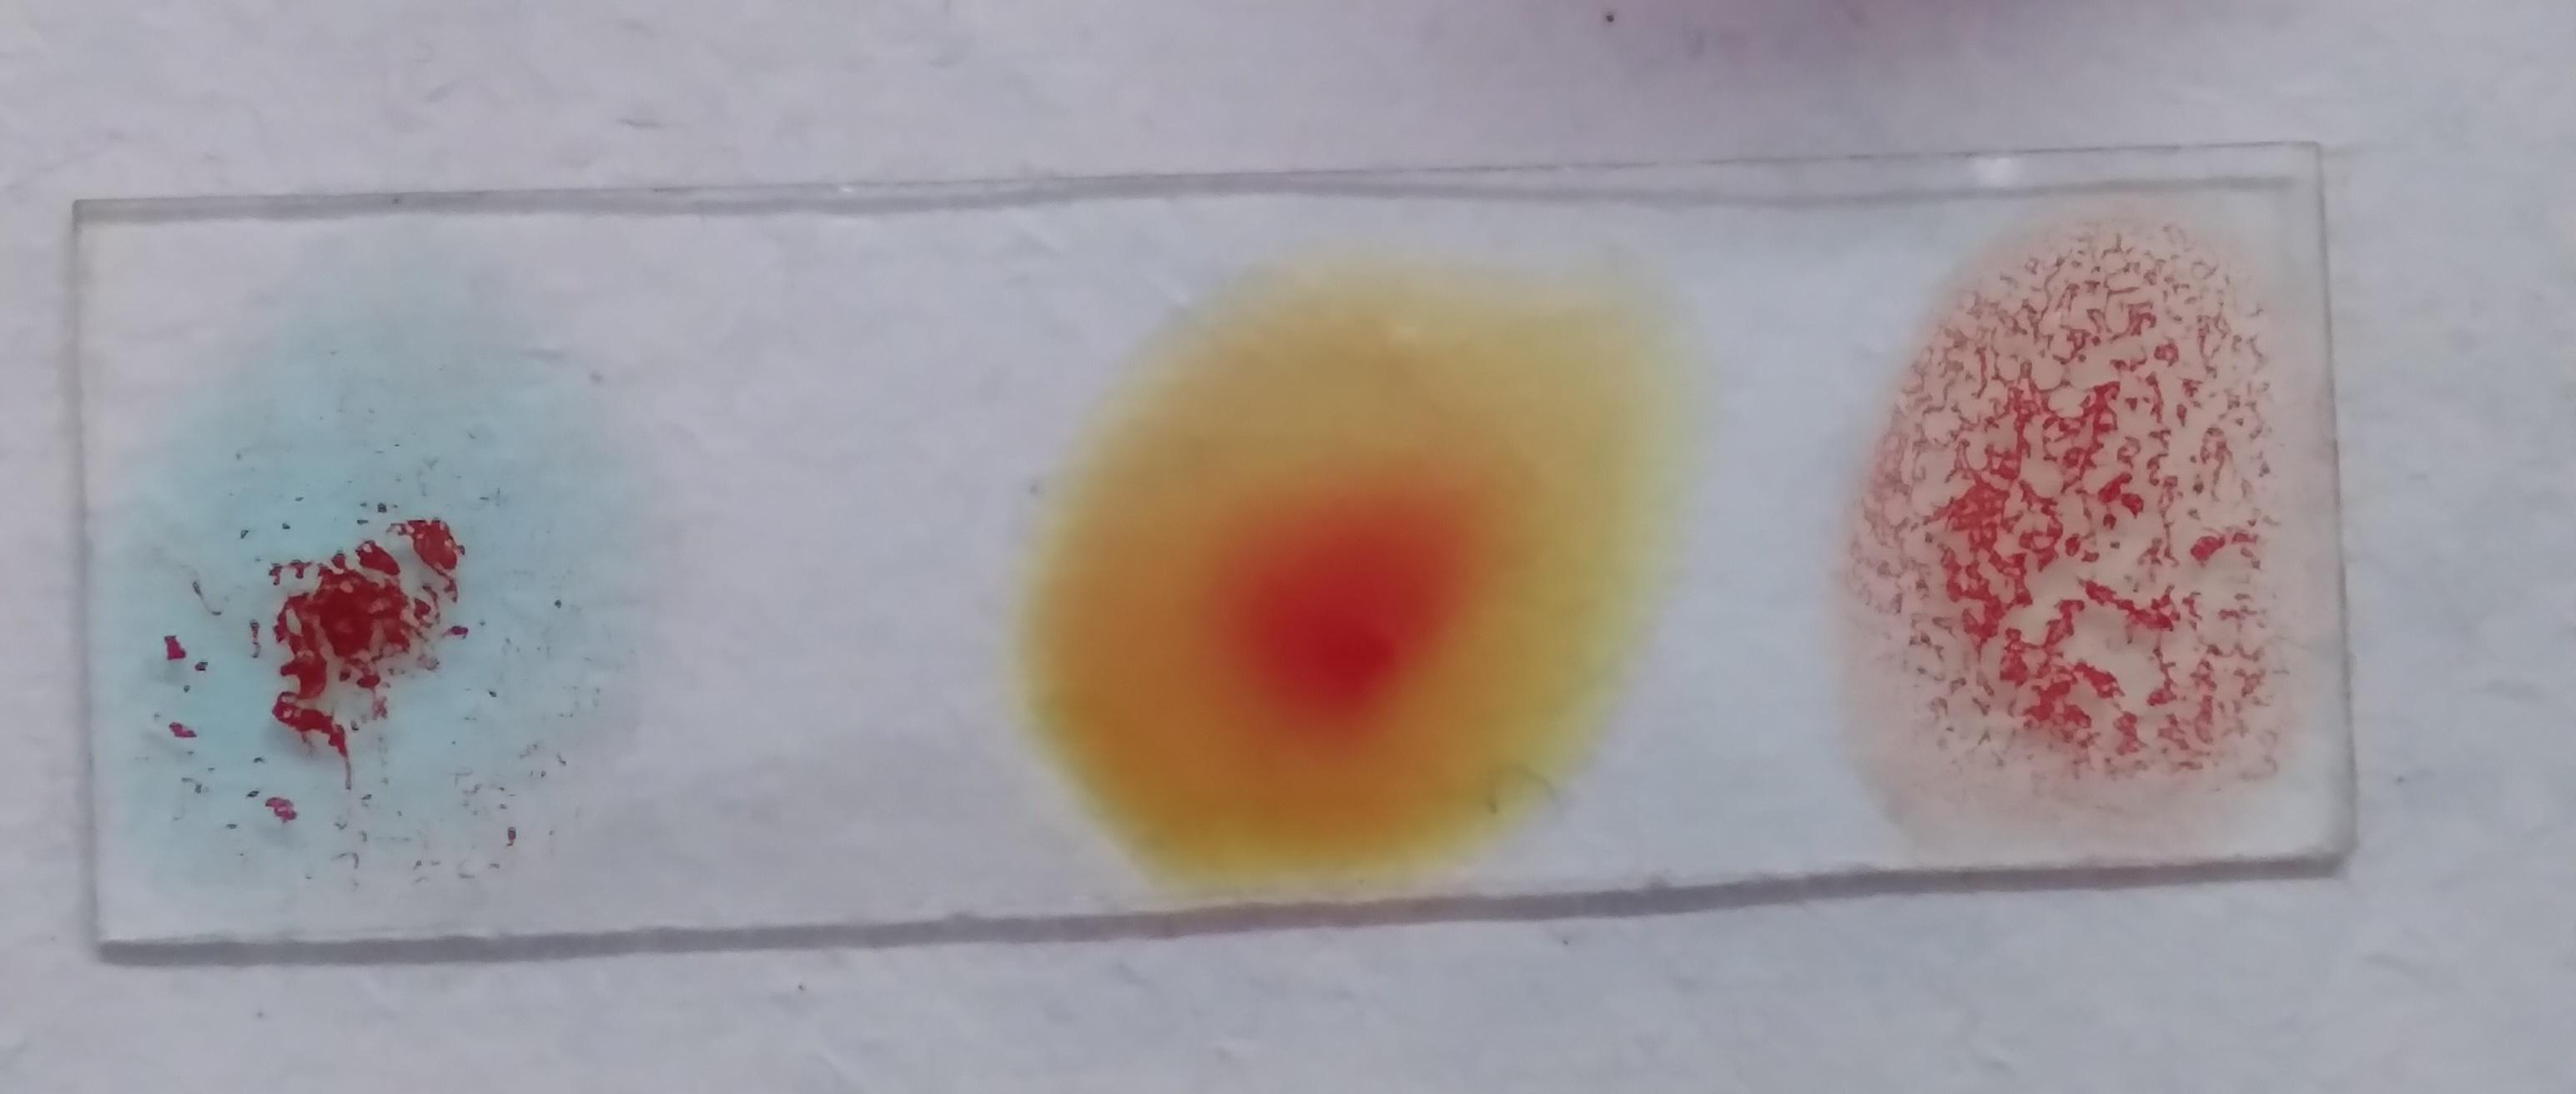A: (117, 340, 588, 890)
D: (1853, 245, 2307, 813)
